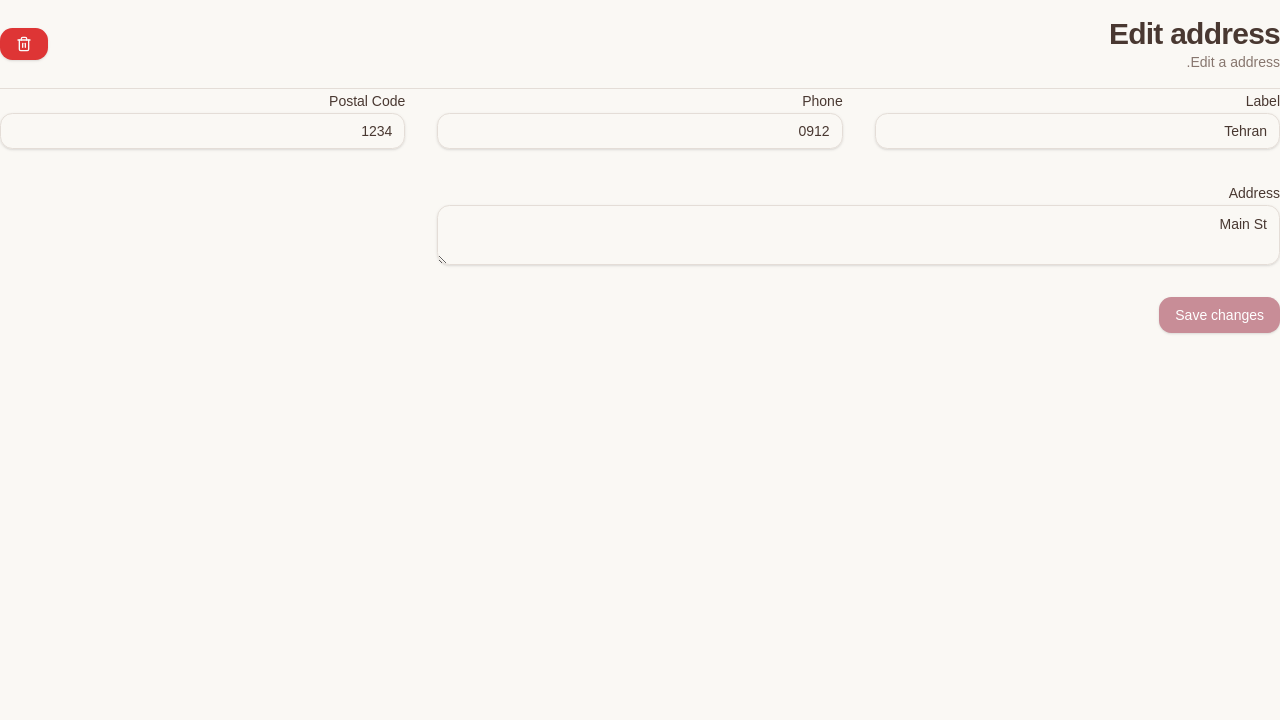
Test: profile AddressForm › edits an existing address and deletes it after confirmation
Later steps or results of the test are not shown.
Expected: the heading "Edit address" is shown, [1109, 16, 1279, 52]
Click the button "Save changes": (1220, 315) [1159, 297, 1279, 333]
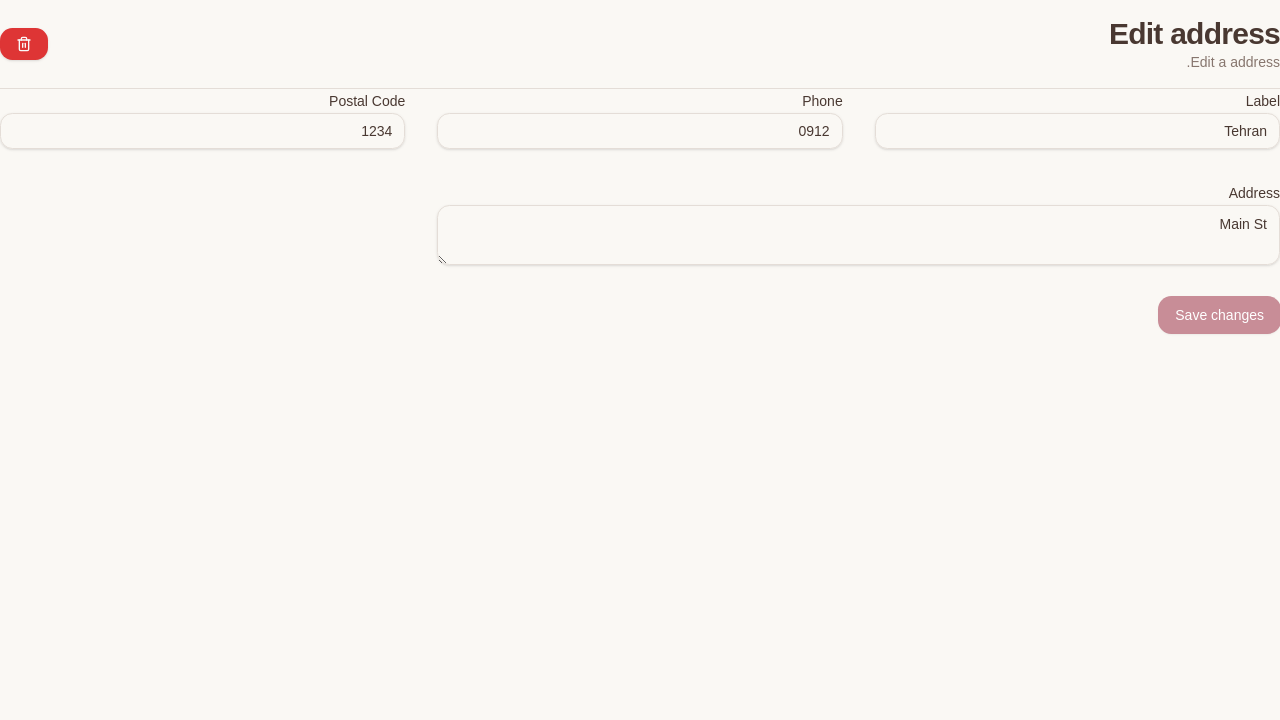
Click the 1st button: (24, 44) [0, 28, 48, 60]
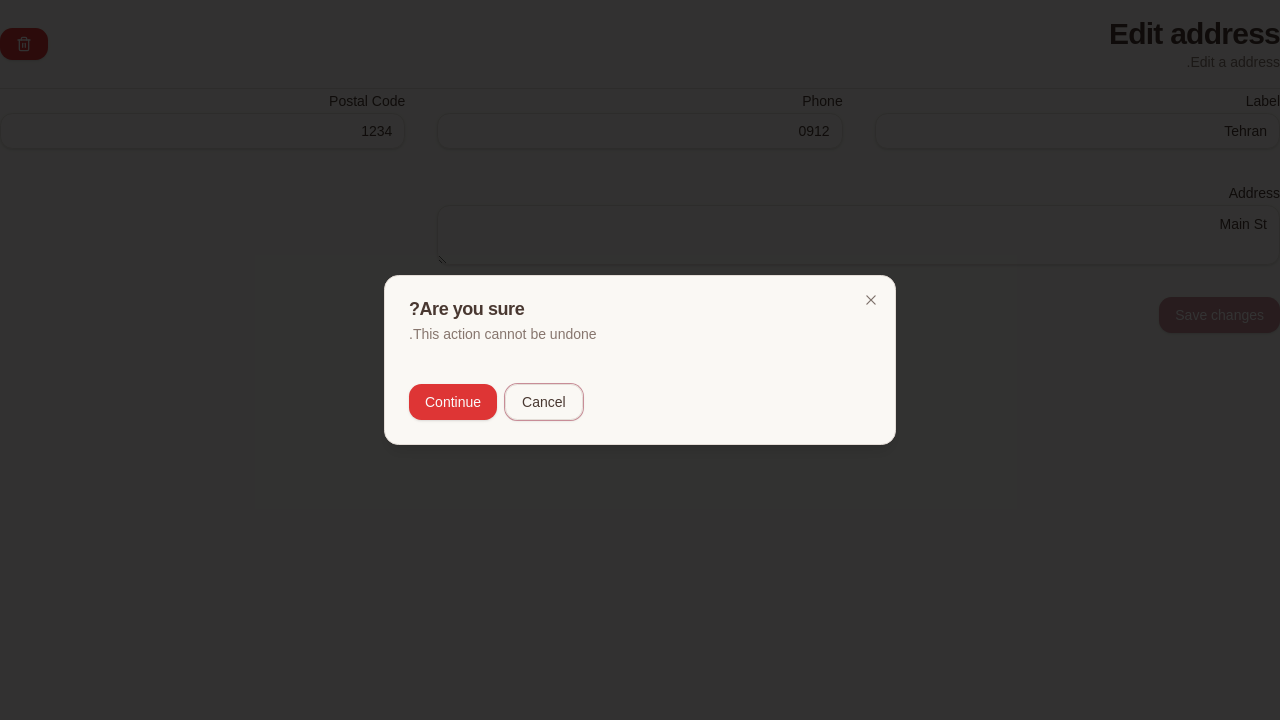
Result: the button "Continue" is shown at [409, 384, 497, 420]
